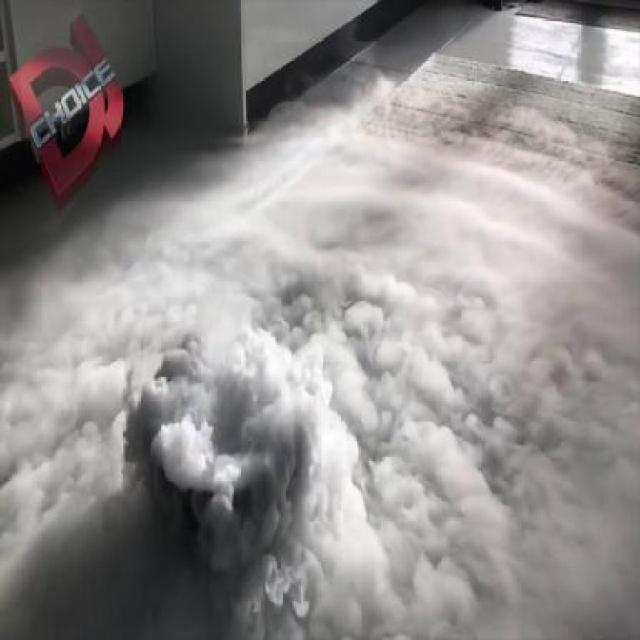smoke: (6, 164, 638, 640)
